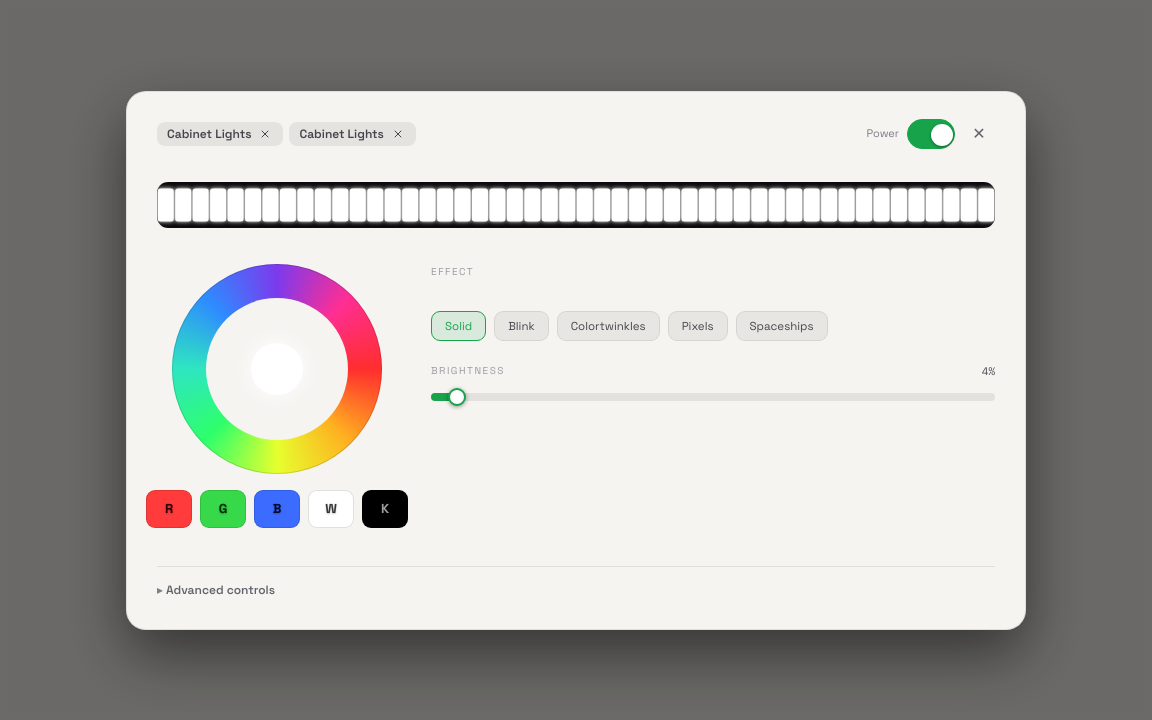
Test case: ControlSurface › surfaces partial failures in an expandable notice
Click the switch named "Power".
click(931, 134)  # box x1=907 y1=118 x2=955 y2=148
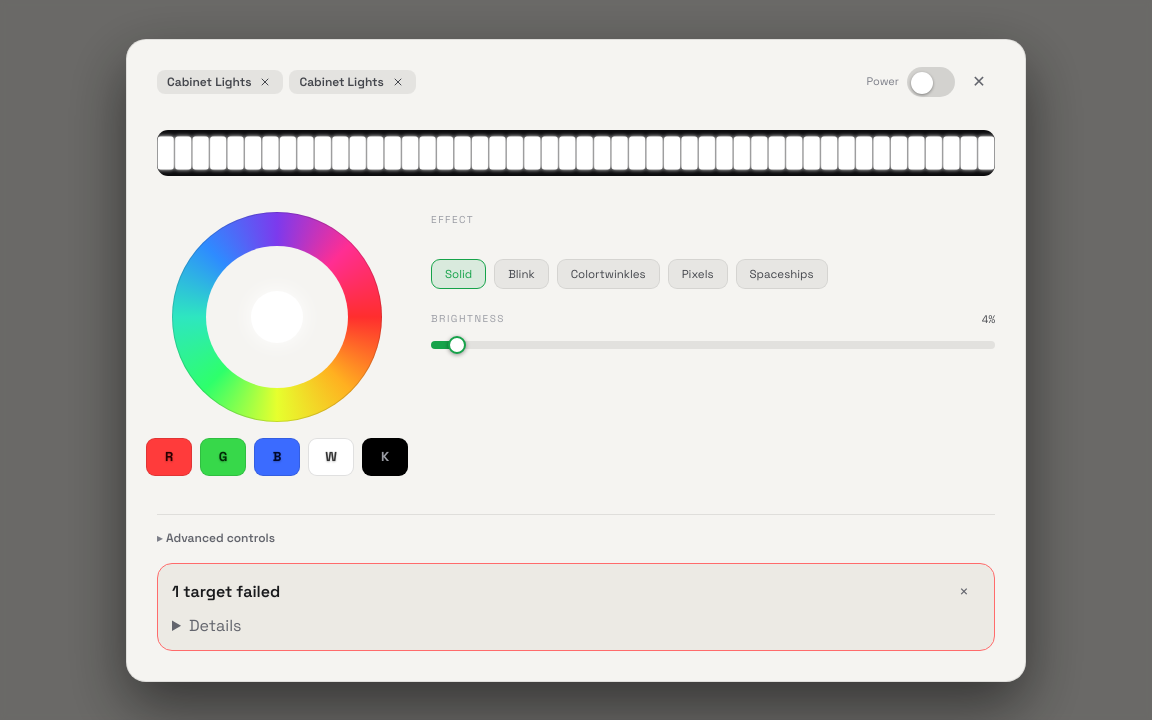
Expected: the text "1 target failed" is shown, x1=172 y1=580 x2=280 y2=604
